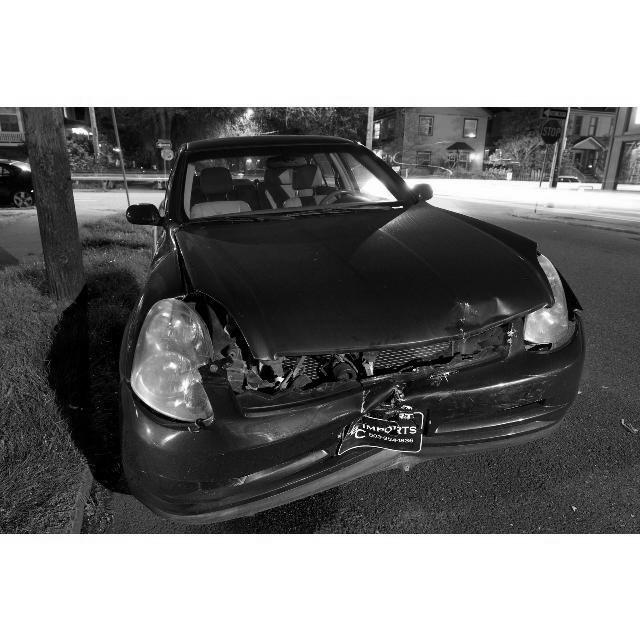Headlight-damage: (127, 291, 282, 417), (493, 255, 601, 355)
bonnet-dent: (176, 219, 547, 336)
front-bumper-dent: (211, 342, 547, 490)
